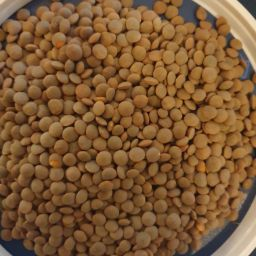Black Lentil(masoor daal): (3, 94, 256, 256), (10, 7, 237, 152), (19, 116, 217, 231), (97, 18, 249, 144)
